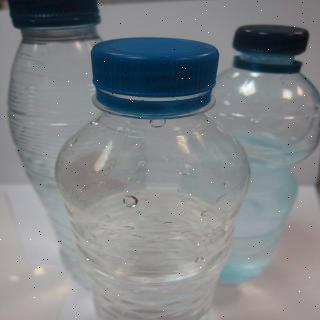Plastic-bottle: (53, 36, 253, 320), (1, 1, 139, 292), (211, 20, 320, 287)
